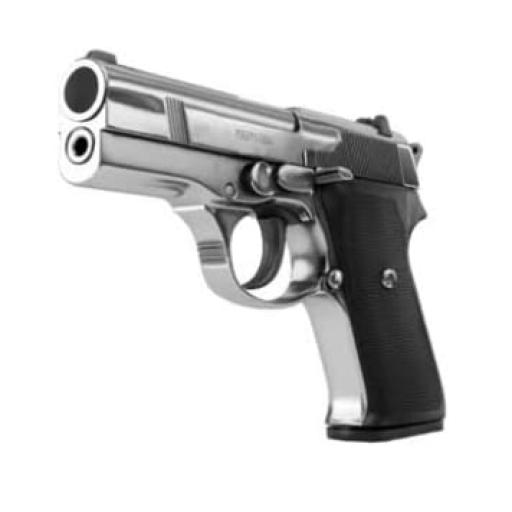Gun: (60, 51, 442, 439)
